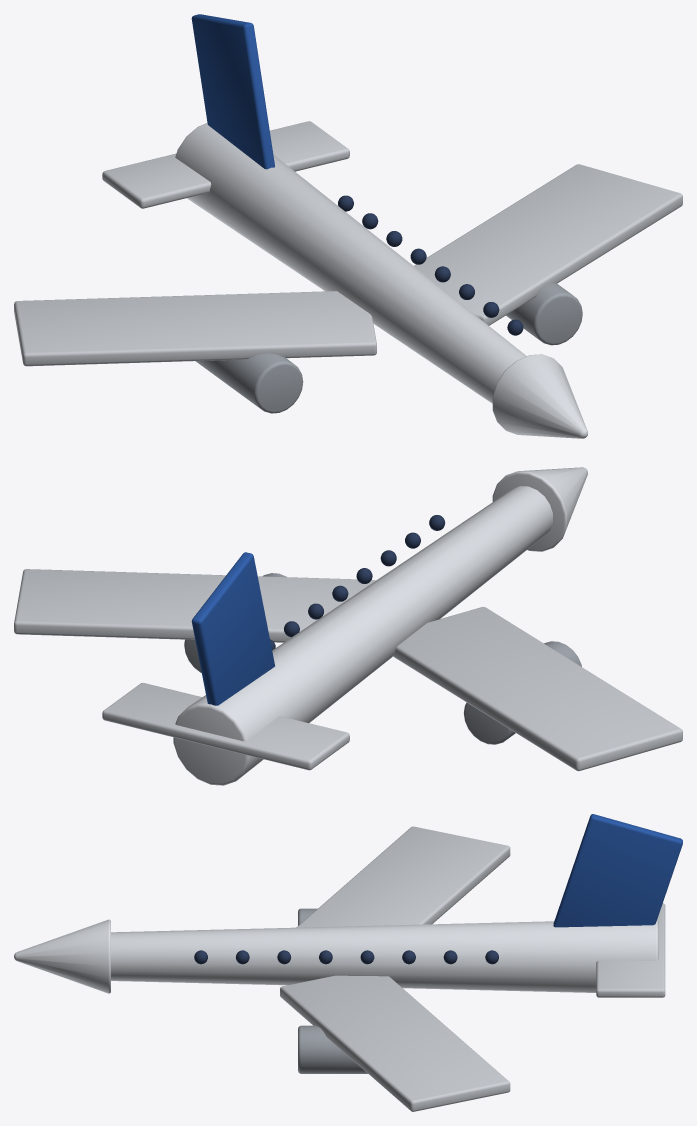
File: jato.glb
3 renders of one model, top to bottom at view 1: azimuth 30°, elevation 25°; view 2: azimuth 150°, elevation 25°; view 3: azimuth 270°, elevation 25°, orthographic. The views are drawn at different scales.
Visible parts, largest first — view 1: jato; view 2: jato; view 3: jato.
Part boxes in pixels (box(x1,y1,x2,y2)): jato: box(14, 14, 682, 438); jato: box(14, 467, 682, 785); jato: box(14, 814, 682, 1111).
Size of the model in its own units: 6.79 by 2.27 by 6.95.
